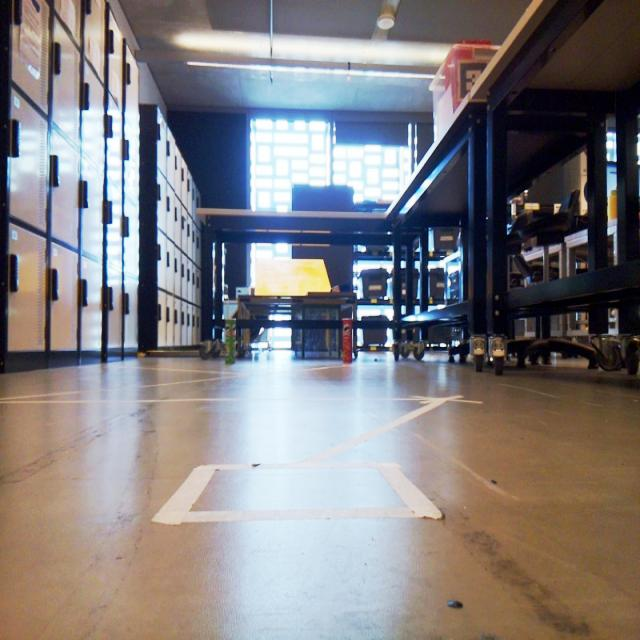greenpringles: (218, 307, 248, 371)
redpringles: (337, 311, 361, 374)
